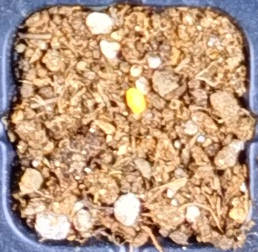pepper seed: (51, 29, 198, 145)
